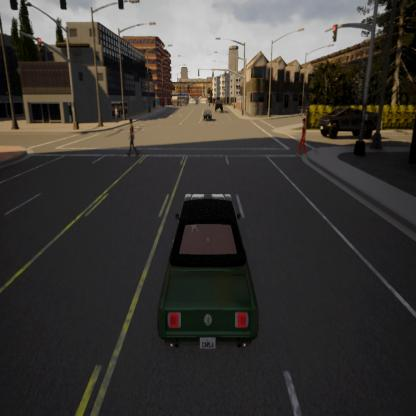Cars: (152, 178, 268, 357), (316, 108, 384, 137), (214, 95, 226, 112), (202, 108, 214, 122)
Pedestrian: (293, 112, 313, 158), (124, 111, 141, 157)
